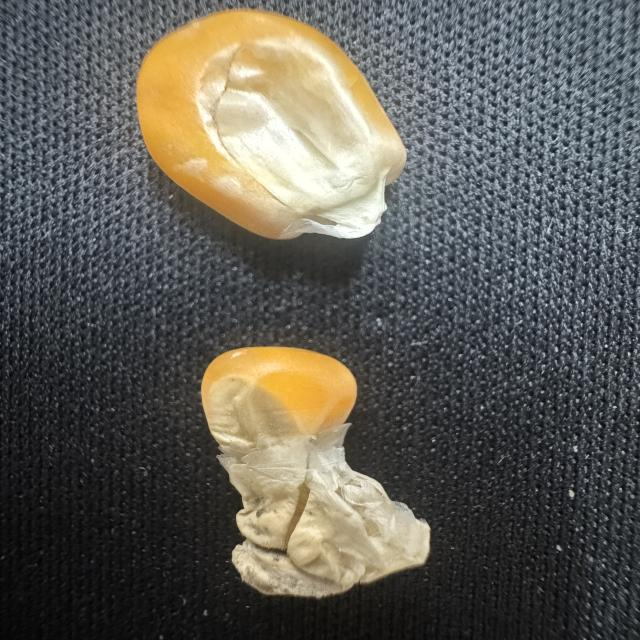Bad-Seed: (196, 342, 442, 602)
Good-Seed: (130, 3, 412, 246)
